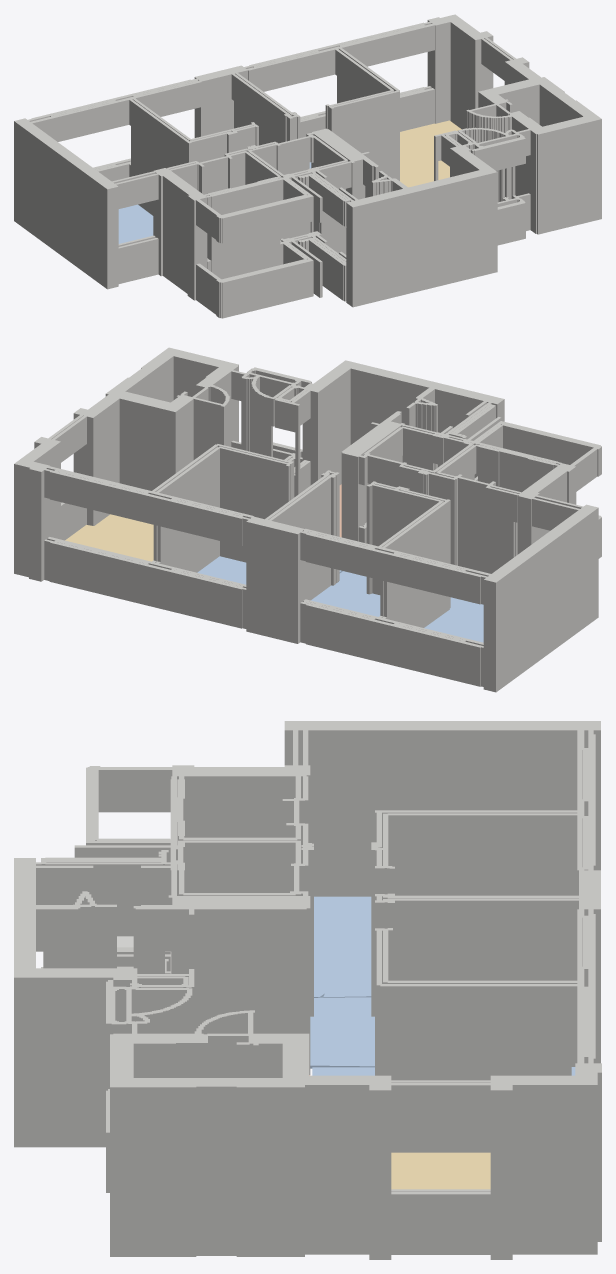
The picture shows the model from 3 angles, top to bottom: view 1: azimuth 30°, elevation 25°; view 2: azimuth 150°, elevation 25°; view 3: azimuth 270°, elevation 25°; orthographic projection. The views are drawn at different scales.
Parts seen in each view (by area): view 1: walls, room:living:3, room:bedroom:0; view 2: walls, room:living:3, room:bedroom:1, room:bedroom:0, room:bedroom:2; view 3: walls, room:bedroom:0, room:bedroom:1, room:living:3.
Boxes of the visible parts, left/top/right/bottom form: walls: left=14, top=14, right=601, bottom=318; room:living:3: left=400, top=120, right=461, bottom=187; room:bedroom:0: left=118, top=204, right=153, bottom=243; walls: left=14, top=347, right=601, bottom=692; room:living:3: left=65, top=514, right=153, bottom=561; room:bedroom:1: left=311, top=571, right=380, bottom=616; room:bedroom:0: left=424, top=597, right=483, bottom=642; room:bedroom:2: left=197, top=556, right=342, bottom=584; walls: left=14, top=721, right=601, bottom=1259; room:bedroom:0: left=314, top=896, right=371, bottom=997; room:bedroom:1: left=310, top=997, right=374, bottom=1068; room:living:3: left=391, top=1152, right=490, bottom=1189.
Bounding box in the file's own units: 13.09 × 2.8 × 8.8.
